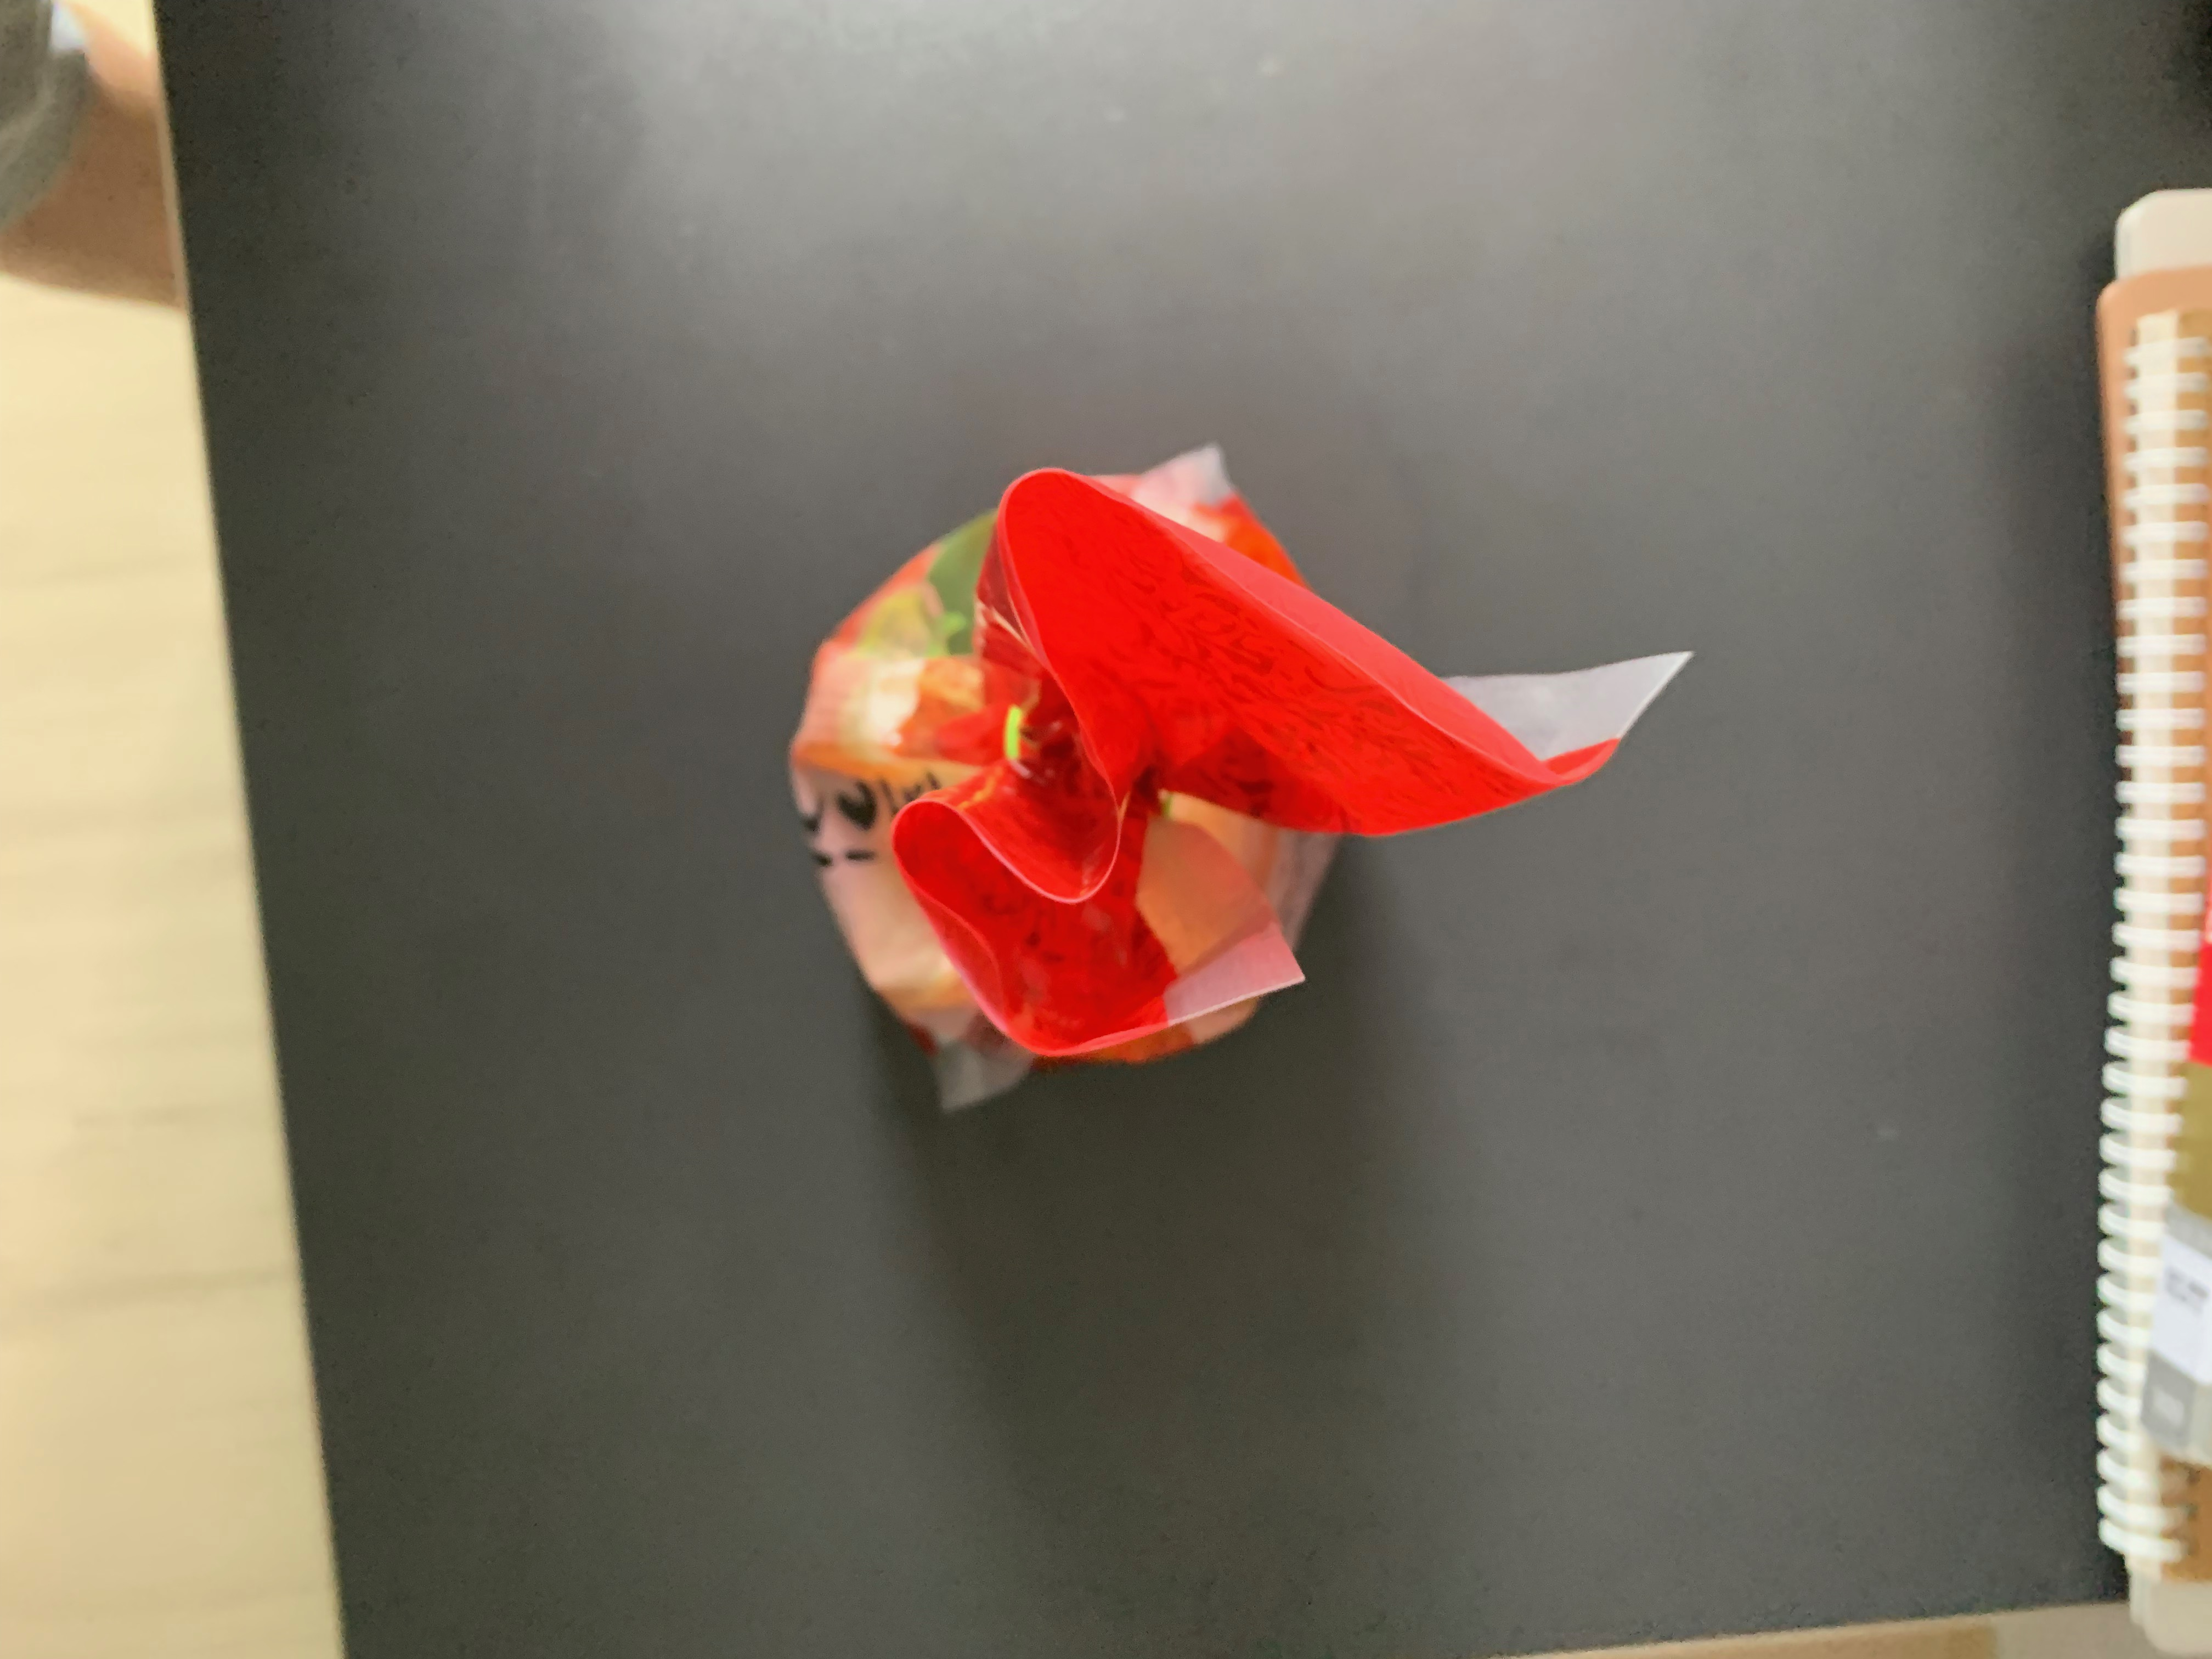kimchi: (791, 467, 1602, 1056)
